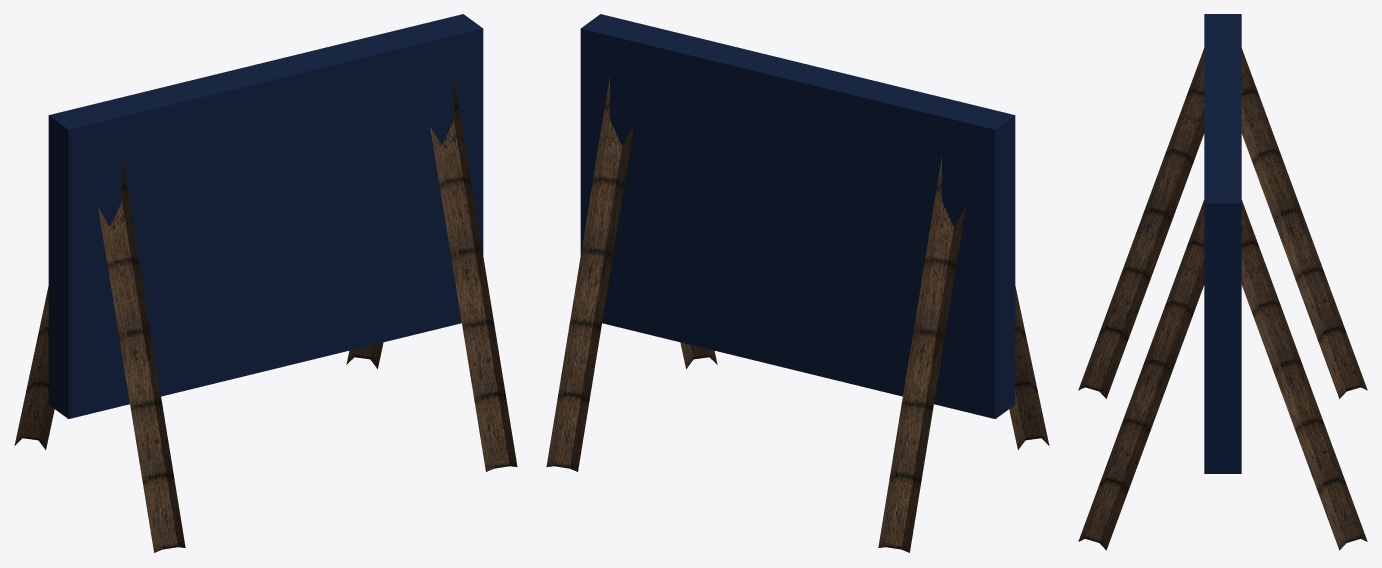
The model's file is C21_Cavalete_Manutencao.obj.
The picture shows the model from 3 angles, left to right: view 1: azimuth 30°, elevation 25°; view 2: azimuth 150°, elevation 25°; view 3: azimuth 270°, elevation 25°; orthographic projection. The views are drawn at different scales.
Visible parts, largest first — view 1: C21_Cavalete_Manutencao; view 2: C21_Cavalete_Manutencao; view 3: C21_Cavalete_Manutencao.
Part boxes in pixels (x1,y1,x2,y2): C21_Cavalete_Manutencao: [14, 14, 517, 552]; C21_Cavalete_Manutencao: [546, 14, 1049, 552]; C21_Cavalete_Manutencao: [1078, 14, 1367, 550].
Bounding box in the file's own units: 1.2 × 1.08 × 0.7759.
Materials: 2 (1 with a texture image).
